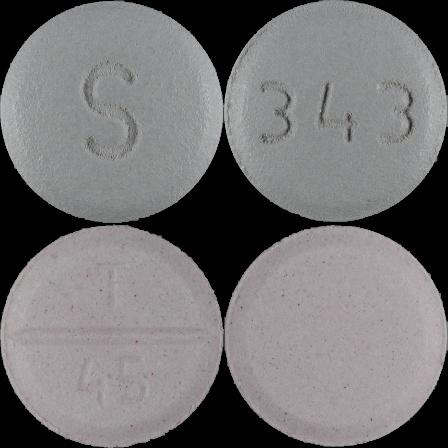61786-784: (0, 0, 224, 224)
